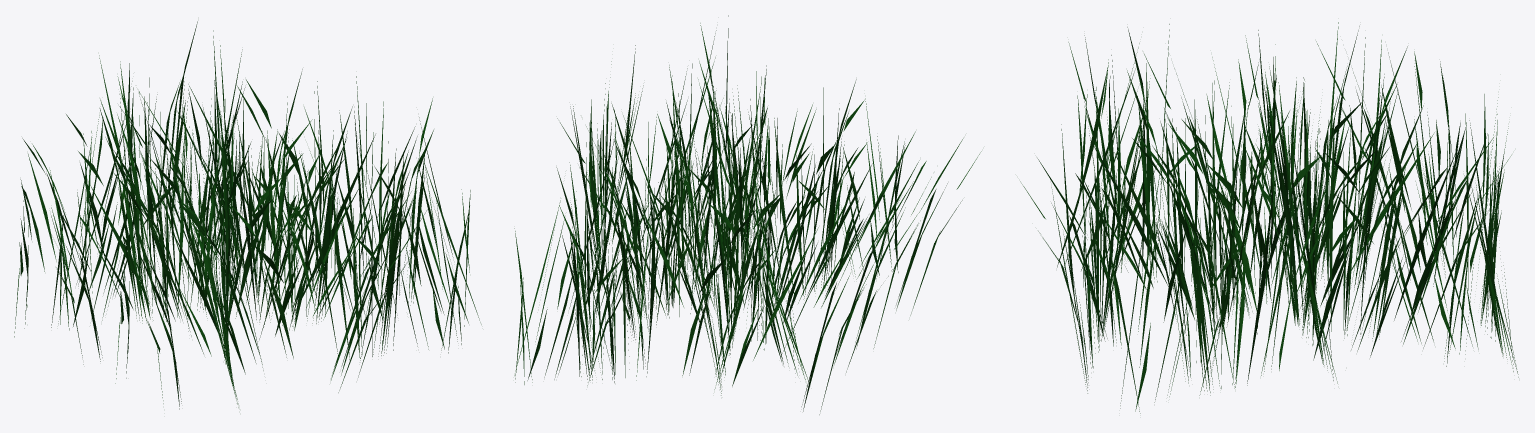
File: Grass.FBX
The picture shows the model from 3 angles, left to right: view 1: azimuth 30°, elevation 25°; view 2: azimuth 150°, elevation 25°; view 3: azimuth 270°, elevation 25°; orthographic projection. The views are drawn at different scales.
Visible parts, largest first — view 1: Object001; view 2: Object001; view 3: Object001.
Boxes of the visible parts, x1,y1,x2,y2 form: Object001: [14, 21, 481, 409]; Object001: [514, 15, 981, 414]; Object001: [1020, 22, 1518, 413].
Size of the model in its own units: 24.33 by 16.11 by 24.97.
